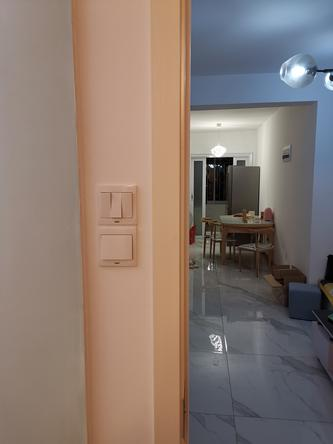switch: (101, 234, 141, 261), (124, 194, 137, 222), (98, 190, 108, 219), (112, 191, 122, 219)
